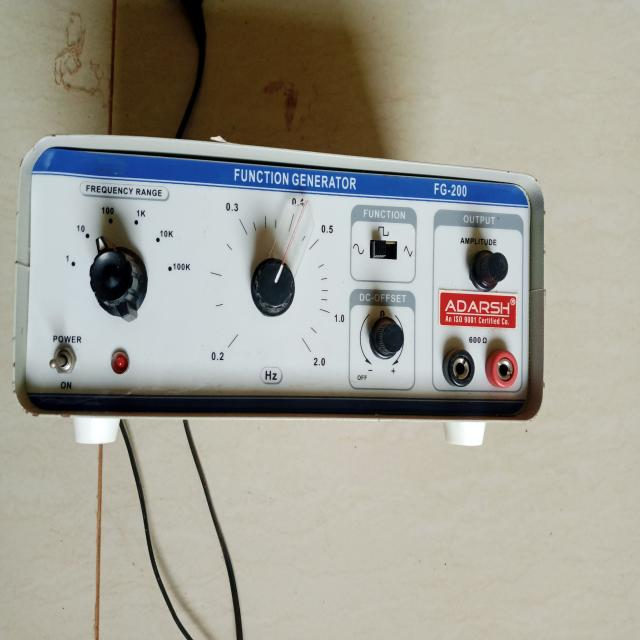Function Generator 100Khz: (8, 122, 556, 447)
